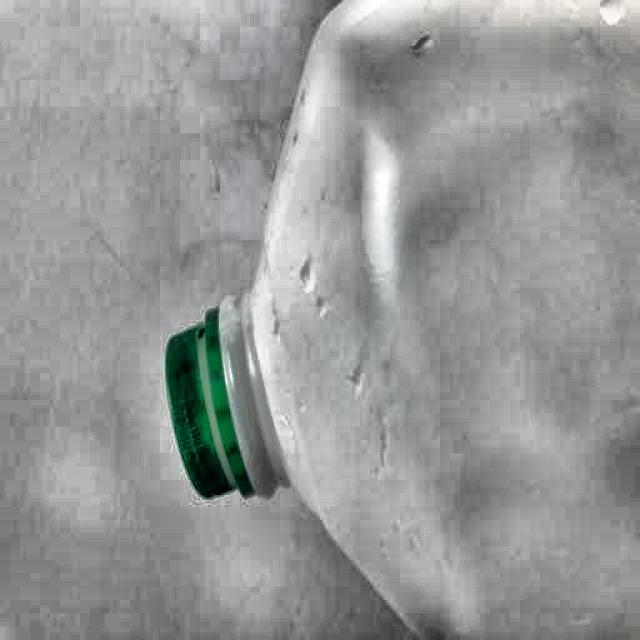Plastic: (158, 6, 640, 640)
